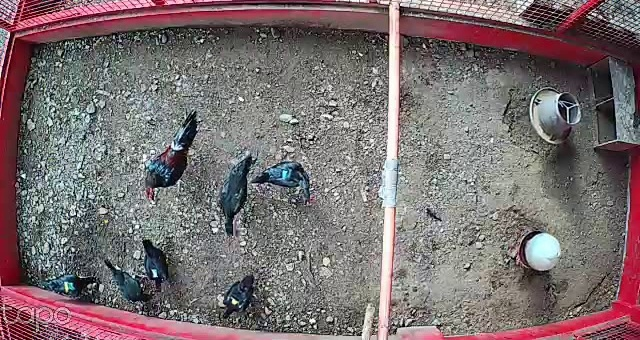Chicken: (215, 148, 260, 240), (252, 157, 315, 204), (100, 258, 157, 305), (137, 235, 174, 293), (40, 268, 100, 300), (223, 277, 257, 321)
Rooster: (144, 109, 209, 202)
Saddle_Color_Blue: (281, 170, 289, 179)
Saddle_Color_White: (152, 269, 159, 278)
Saddle_Color_Yellow: (228, 295, 243, 308)
Saddle_Color_YellowGreen: (63, 279, 75, 293)
